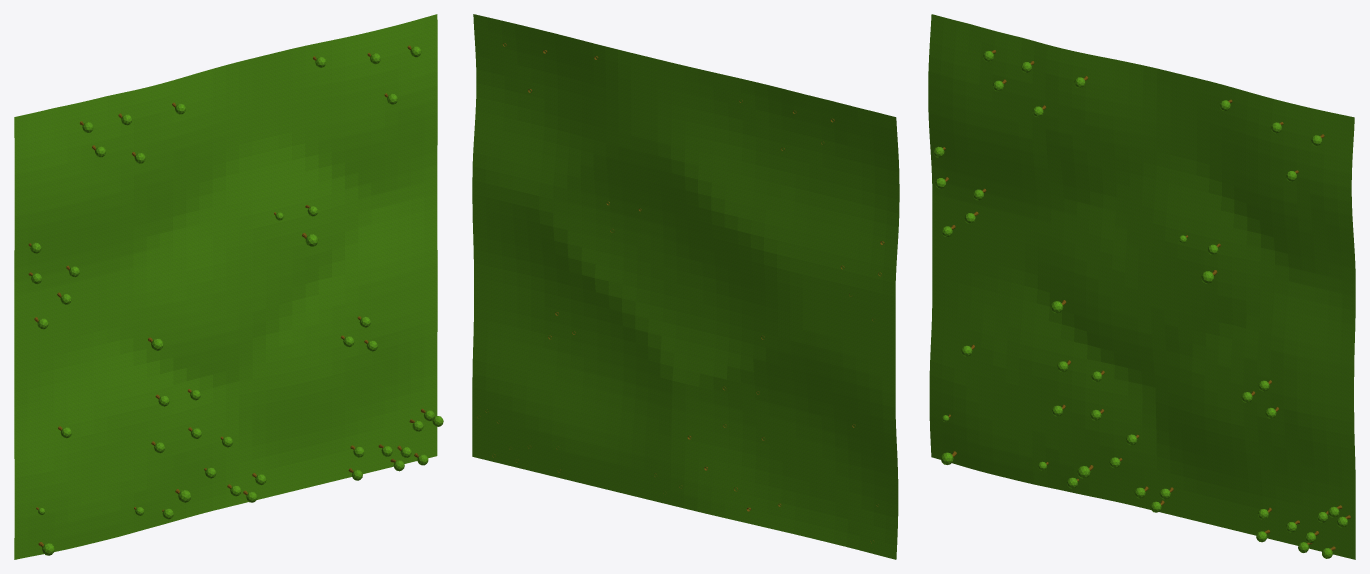
The model's file is level1.gltf.
3 views of the same model, side by side, from view 1: azimuth 30°, elevation 25°; view 2: azimuth 150°, elevation 25°; view 3: azimuth 330°, elevation 25° (orthographic).
Parts seen in each view (by area): view 1: Plane; view 2: Plane; view 3: Plane.
Boxes of the visible parts, left/top/right/bottom form: Plane: left=14, top=14, right=437, bottom=559; Plane: left=472, top=14, right=899, bottom=559; Plane: left=928, top=14, right=1355, bottom=559.
Bounding box in the file's own units: 100 × 100 × 6.
Materials: 2 (2 with a texture image).
